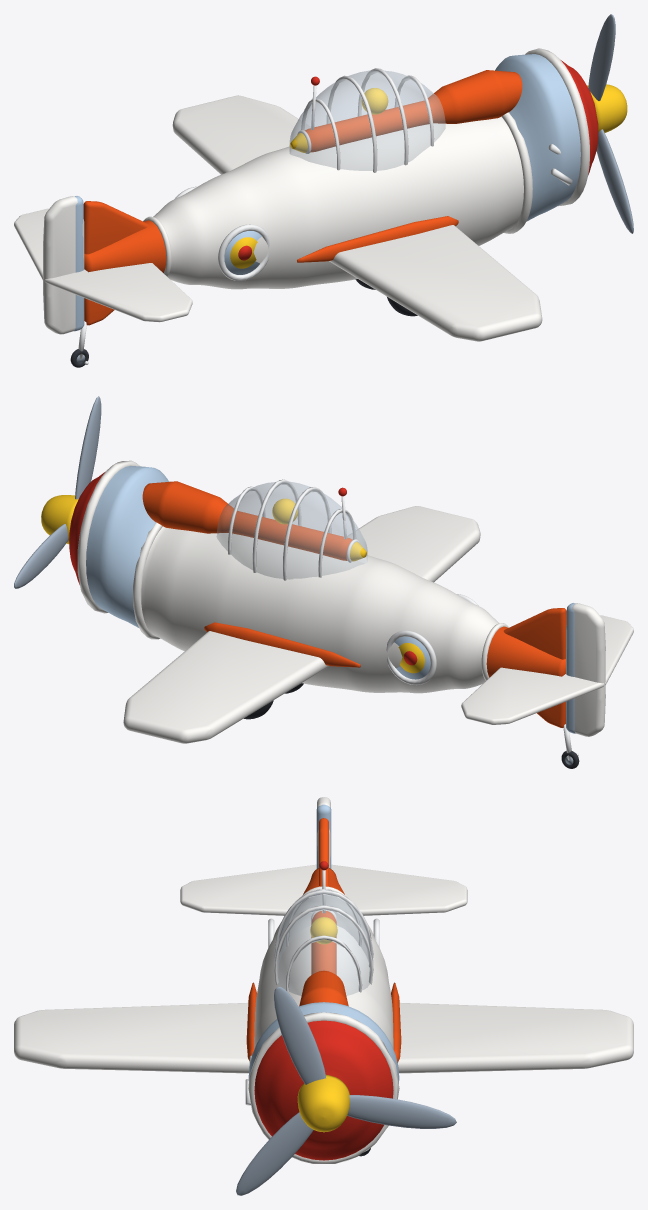
Rendered from lacerta.glb.
3 views of the same model, one above another, from view 1: azimuth 30°, elevation 25°; view 2: azimuth 150°, elevation 25°; view 3: azimuth 270°, elevation 25° (orthographic). The views are drawn at different scales.
Visible parts, largest first — view 1: body 1, wing.002, canopy, body 2, wing.003, gun pod 1, wing, rudder, body 0, fin, blister 0, Torus.002 (+14 smaller); view 2: body 1, wing.003, canopy, body 2, wing.002, gun pod 1, wing.001, rudder, body 0, fin, blister r 0, Torus.002 (+11 smaller); view 3: wing.003, wing.002, body 3, body 1, canopy, wing.001, wing, blade, blade.002, blade.001, Torus.002, spinner (+8 smaller).
Boxes of the visible parts, left/top/right/bottom form: body 1: left=153, top=116, right=523, bottom=289; wing.002: left=329, top=225, right=542, bottom=341; canopy: left=289, top=70, right=445, bottom=170; body 2: left=495, top=54, right=580, bottom=221; wing.003: left=172, top=95, right=310, bottom=174; gun pod 1: left=305, top=70, right=522, bottom=152; wing: left=44, top=263, right=192, bottom=322; rudder: left=43, top=196, right=84, bottom=334; body 0: left=84, top=220, right=166, bottom=272; fin: left=83, top=201, right=148, bottom=254; blister 0: left=297, top=216, right=458, bottom=262; Torus.002: left=525, top=48, right=589, bottom=206; body 1: left=141, top=526, right=499, bottom=693; wing.003: left=123, top=631, right=328, bottom=743; canopy: left=216, top=481, right=367, bottom=579; body 2: left=86, top=465, right=168, bottom=627; wing.002: left=347, top=506, right=480, bottom=582; gun pod 1: left=142, top=481, right=352, bottom=560; wing.001: left=461, top=667, right=604, bottom=724; rudder: left=566, top=603, right=605, bottom=736; body 0: left=486, top=626, right=565, bottom=677; fin: left=503, top=608, right=566, bottom=659; blister r 0: left=204, top=622, right=360, bottom=667; Torus.002: left=77, top=460, right=139, bottom=613; wing.003: left=398, top=1002, right=633, bottom=1073; wing.002: left=14, top=1002, right=249, bottom=1073; body 3: left=254, top=1020, right=393, bottom=1160; body 1: left=254, top=891, right=393, bottom=1048; canopy: left=274, top=889, right=373, bottom=995; wing.001: left=331, top=864, right=467, bottom=915; wing: left=180, top=864, right=316, bottom=915; blade: left=274, top=986, right=325, bottom=1084; blade.002: left=347, top=1095, right=456, bottom=1128; blade.001: left=236, top=1112, right=313, bottom=1195; Torus.002: left=248, top=1012, right=399, bottom=1163; spinner: left=297, top=1074, right=349, bottom=1132.
Size of the model in its own units: 5.93 by 2.51 by 5.4.
